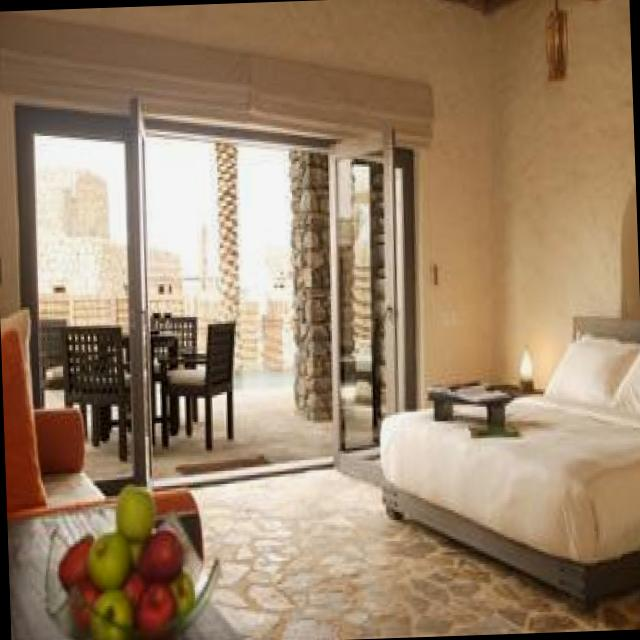bed: (375, 311, 640, 617)
curtains: (286, 144, 338, 420)
lamps: (543, 0, 570, 81)
pillows: (0, 322, 50, 517)
plants: (55, 478, 222, 640)
